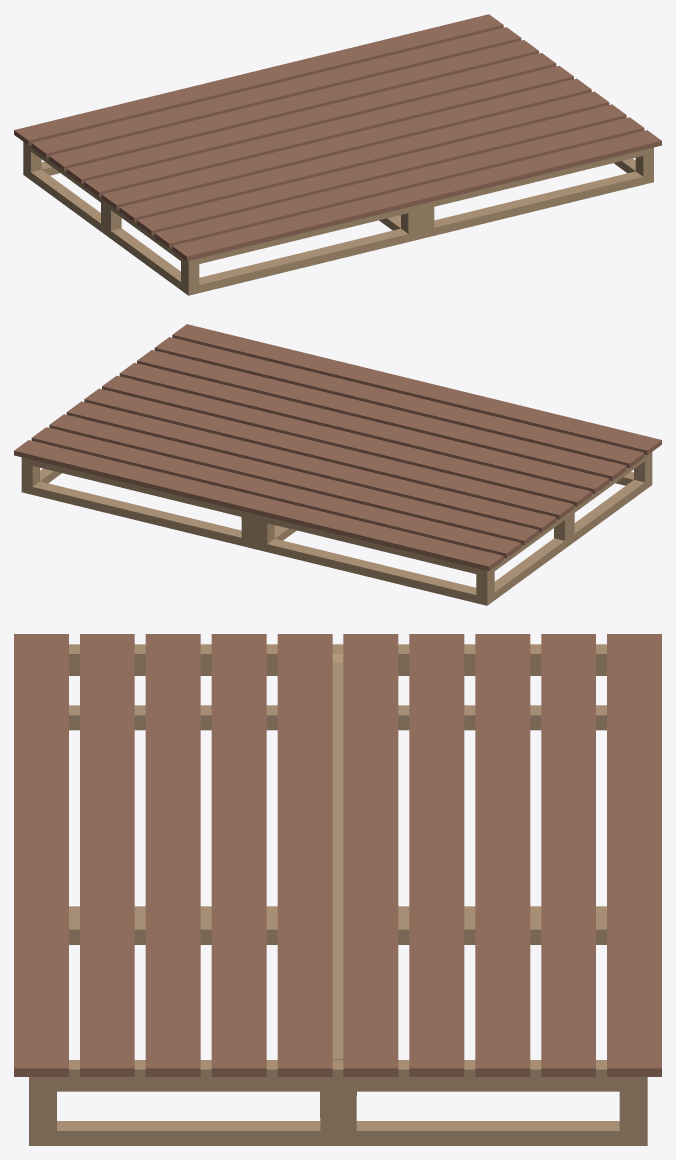
Rendered from Pallet 1.fbx.
3 renders of one model, top to bottom at view 1: azimuth 30°, elevation 25°; view 2: azimuth 150°, elevation 25°; view 3: azimuth 270°, elevation 25°, orthographic. The views are drawn at different scales.
Parts seen in each view (by area): view 1: Pallet; view 2: Pallet; view 3: Pallet.
Part boxes in pixels (x1,y1,x2,y2): Pallet: (14,14,661,295); Pallet: (14,324,661,605); Pallet: (14,634,661,1145).
Bounding box in the file's own units: 311 × 27.19 × 196.
